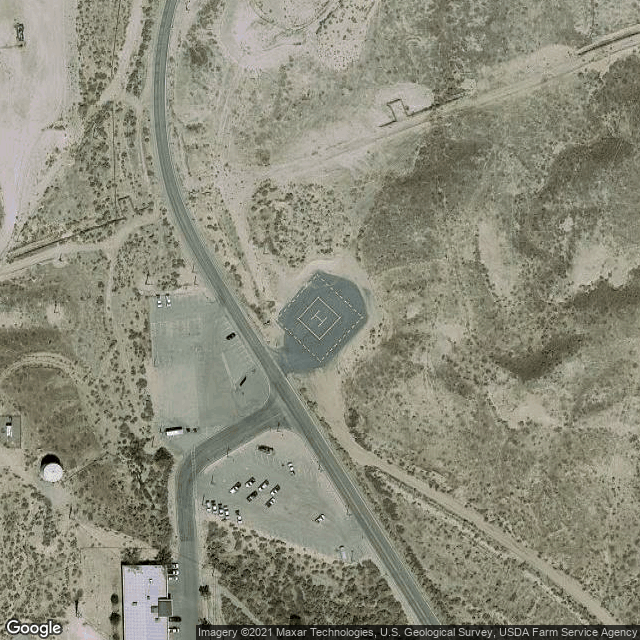Helipad: (294, 293, 343, 343)
